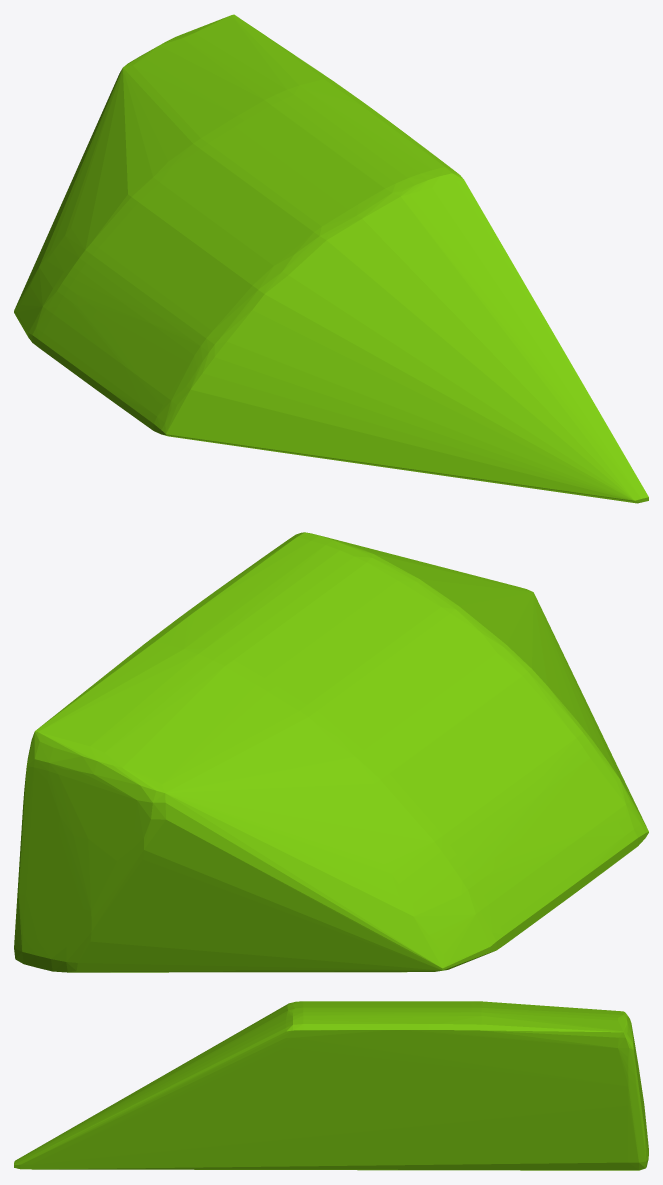
File: right-hip-pitch-0_part_4.obj
3 views of the same model, one above another, from view 1: azimuth 30°, elevation 25°; view 2: azimuth 150°, elevation 25°; view 3: azimuth 270°, elevation 25° (orthographic). The views are drawn at different scales.
Bounding box in the file's own units: 0.0567 × 0.0357 × 0.1395.
